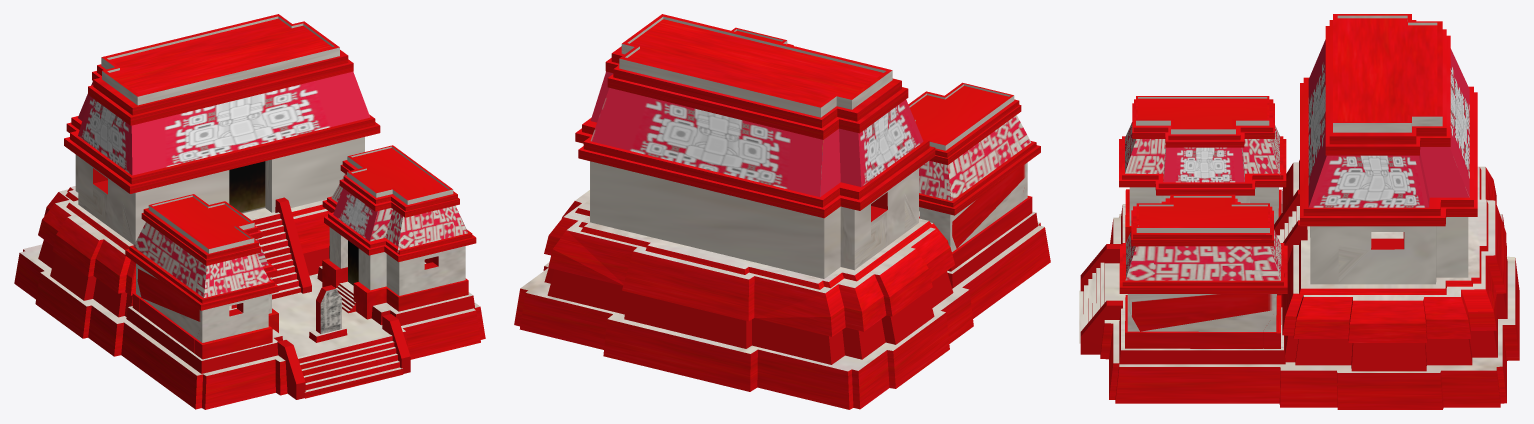
File: barracks.dae
The picture shows the model from 3 angles, left to right: view 1: azimuth 30°, elevation 25°; view 2: azimuth 150°, elevation 25°; view 3: azimuth 270°, elevation 25°; orthographic projection. The views are drawn at different scales.
Parts seen in each view (by area): view 1: barracks; view 2: barracks; view 3: barracks.
Boxes of the visible parts, x1,y1,x2,y2 form: barracks: (14, 14, 485, 409); barracks: (514, 14, 1050, 409); barracks: (1079, 14, 1519, 409).
Bounding box in the file's own units: 23.76 × 26.14 × 16.72.
Materials: 1 (1 with a texture image).
